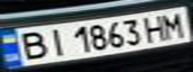1: (66, 23, 90, 53)
3: (121, 16, 145, 46)
6: (106, 19, 127, 49)
8: (87, 21, 109, 52)
B: (12, 28, 51, 61)
H: (139, 12, 172, 43)
I: (42, 26, 69, 56)
M: (157, 9, 190, 39)
